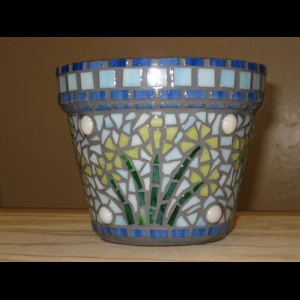flowerpot: (55, 56, 267, 247)
